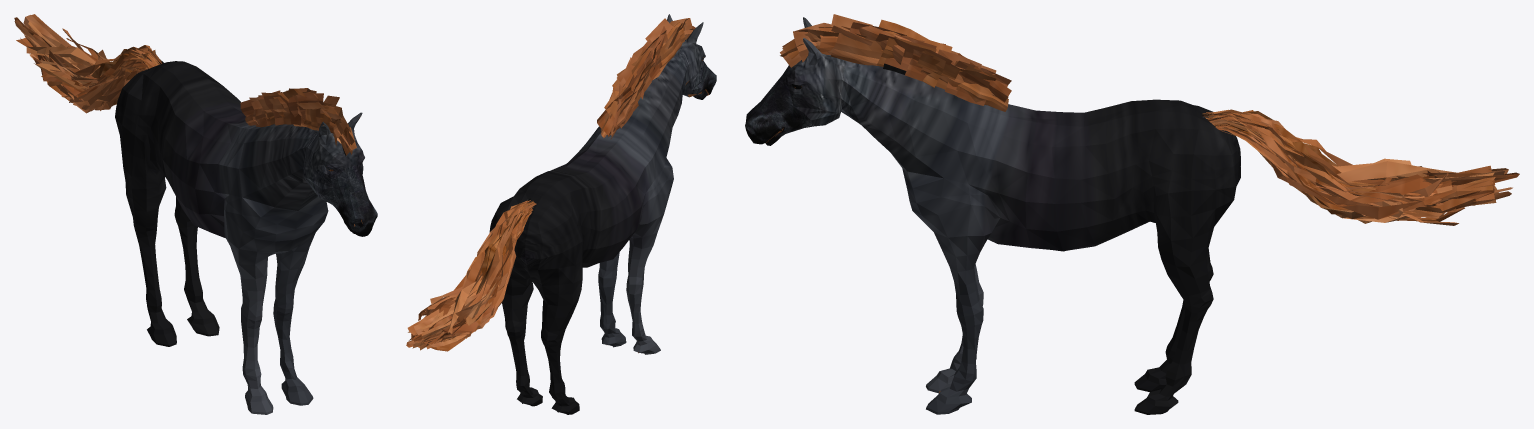
Rendered from caballo.obj.
3 views of the same model, side by side, from view 1: azimuth 30°, elevation 25°; view 2: azimuth 150°, elevation 25°; view 3: azimuth 270°, elevation 25° (orthographic). The views are drawn at different scales.
Visible parts, largest first — view 1: Horse.001, Horse; view 2: Horse.001, Horse; view 3: Horse.001, Horse.
Boxes of the visible parts, x1,y1,x2,y2 form: Horse.001: (115, 59, 377, 414); Horse: (14, 14, 362, 226); Horse.001: (489, 14, 716, 414); Horse: (406, 18, 709, 353); Horse.001: (745, 17, 1240, 414); Horse: (766, 14, 1519, 392).
Size of the model in its own units: 0.6888 by 2.34 by 4.34.
